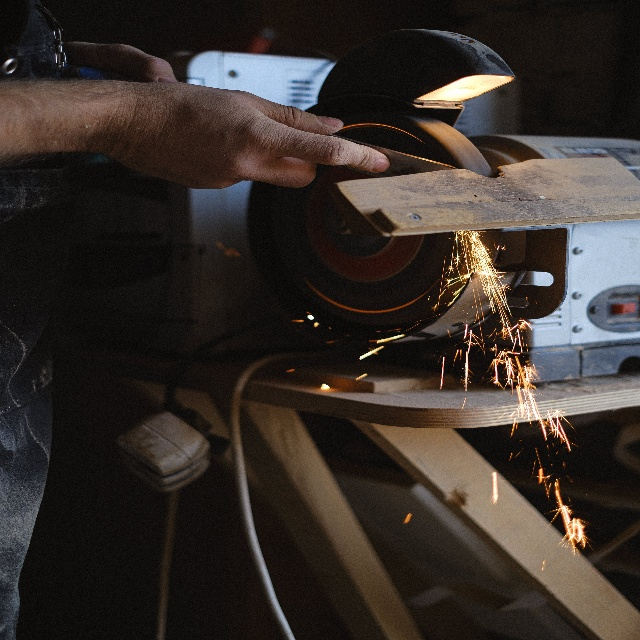Sin_guantes: (162, 86, 390, 190)
